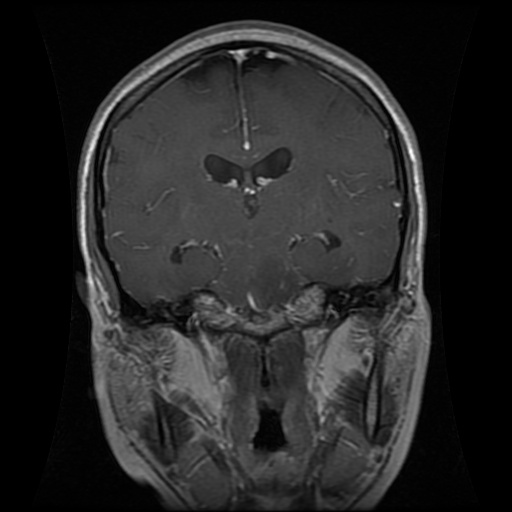glioma: (250, 256, 303, 307)
